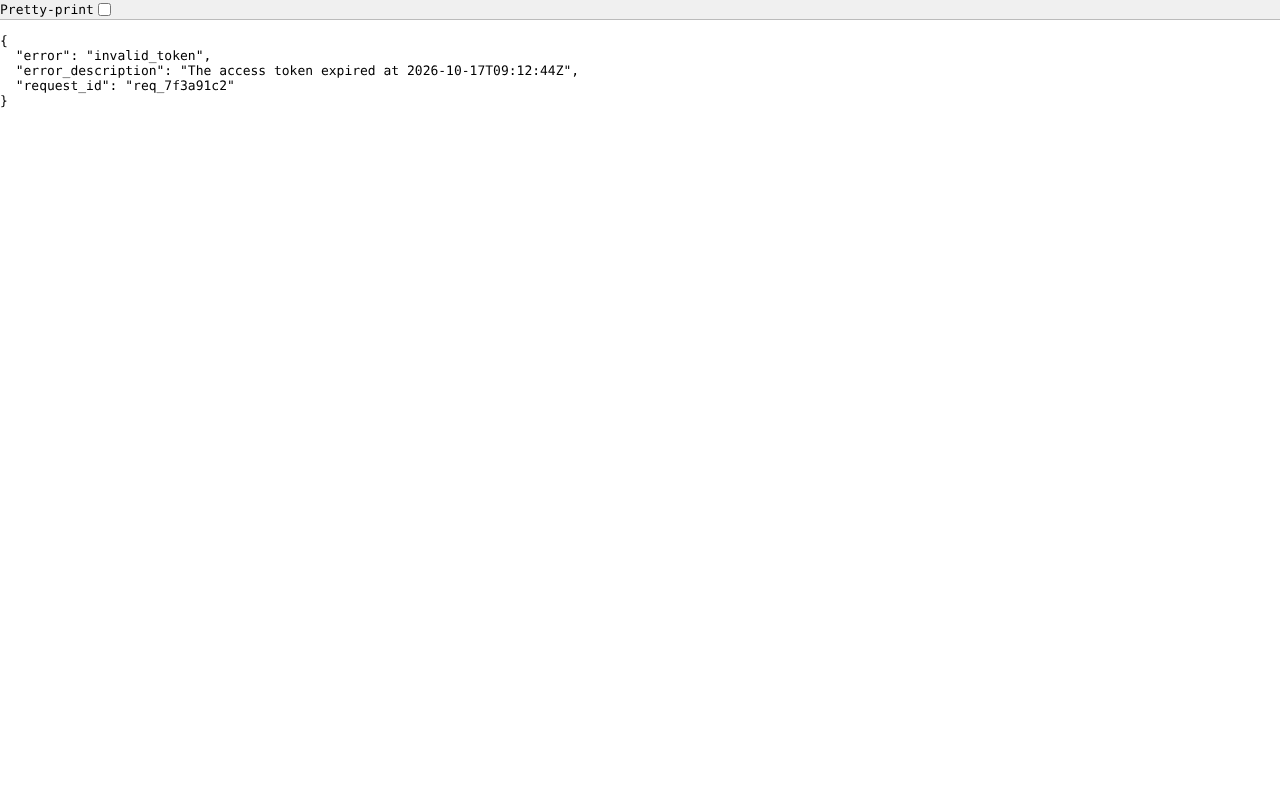ERROR_TEXT: (18, 65, 576, 78), (18, 50, 209, 63)
